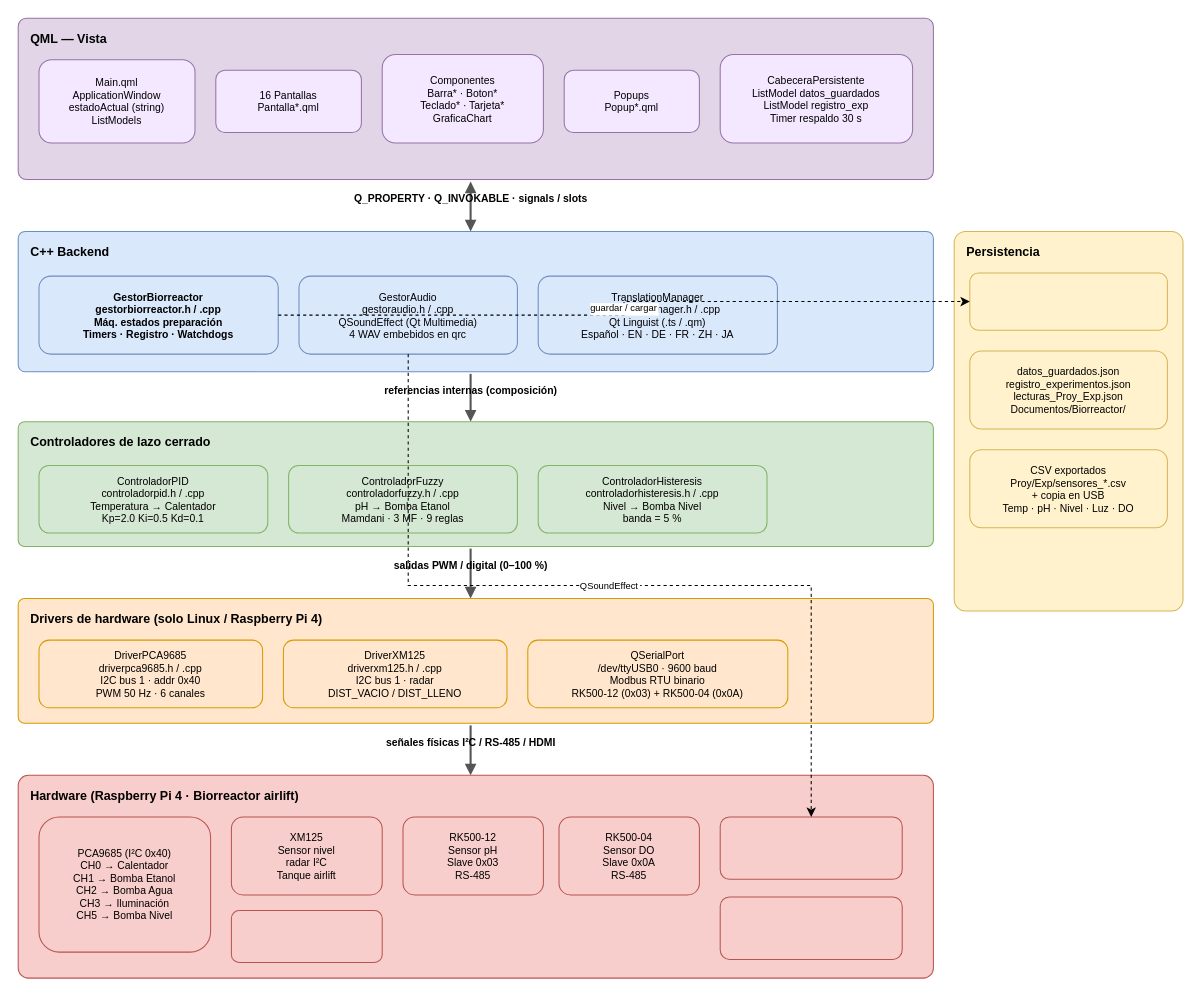
The diagram is 1201 pixels wide and 996 high, and some of its shapes have lost their labels. Each missing label, with the centre of its shape:
Amplificador 12 V Jack 3.5 mm amixer cset numid=3 1: point (810, 847)
biorreactor.ini QSettings Setpoints actuales: point (1068, 301)
DS3231 RTC I²C 0x68 Timestamps CSV: point (306, 936)
Pantalla táctil 7" HDMI + USB HID 800 × 480 px: point (810, 927)
